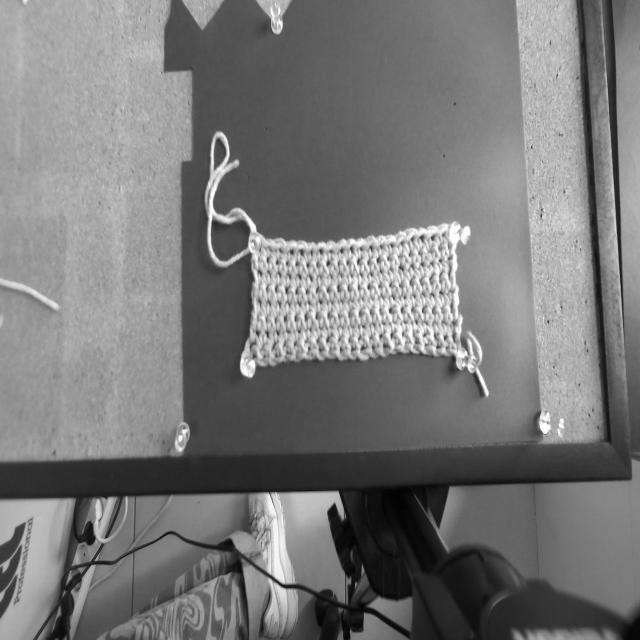ch: (425, 344, 444, 357), (414, 345, 433, 356), (351, 352, 370, 360), (362, 350, 380, 358), (405, 345, 421, 354), (256, 357, 271, 366), (311, 350, 324, 360), (437, 347, 453, 355), (320, 352, 337, 359), (302, 353, 318, 360), (342, 352, 356, 360), (283, 353, 294, 363), (395, 347, 410, 354), (292, 354, 306, 361), (375, 350, 390, 356), (383, 349, 398, 355), (272, 357, 283, 365), (336, 353, 347, 361)
sc: (402, 229, 418, 255), (422, 227, 438, 251), (412, 227, 427, 252), (271, 238, 286, 261), (294, 240, 308, 264), (438, 267, 451, 292), (363, 235, 375, 262), (434, 223, 448, 246), (332, 240, 346, 263), (381, 324, 394, 348), (394, 232, 407, 256), (372, 237, 386, 259), (283, 240, 297, 262), (391, 300, 404, 323), (353, 238, 366, 261), (344, 239, 357, 262), (277, 326, 291, 347), (391, 324, 404, 346), (410, 272, 423, 294), (380, 300, 392, 323), (402, 300, 414, 323), (328, 279, 340, 302), (256, 307, 267, 332), (307, 305, 318, 330), (318, 304, 329, 329), (349, 302, 360, 327), (262, 237, 275, 258), (361, 302, 372, 326), (369, 277, 381, 299), (388, 248, 400, 270), (323, 241, 335, 263), (304, 242, 316, 264), (313, 243, 326, 263), (442, 300, 453, 323), (358, 251, 369, 274), (439, 237, 450, 260), (400, 276, 412, 297), (267, 308, 277, 333), (296, 306, 306, 331), (371, 301, 382, 323), (276, 280, 287, 302), (359, 277, 370, 299), (379, 249, 390, 271), (430, 270, 441, 292), (276, 307, 286, 331), (286, 307, 296, 331), (267, 278, 277, 302), (339, 277, 349, 301), (349, 278, 359, 302), (380, 276, 392, 296), (317, 255, 329, 275), (419, 243, 431, 263), (360, 329, 371, 350), (390, 275, 401, 296), (369, 252, 380, 273), (329, 305, 339, 328), (340, 305, 350, 328), (287, 281, 297, 304), (298, 280, 308, 303), (349, 252, 359, 275), (386, 235, 396, 258), (412, 302, 424, 321), (420, 275, 432, 294), (424, 326, 435, 346), (446, 330, 457, 350), (308, 282, 319, 302), (329, 253, 339, 275), (410, 246, 421, 266), (339, 254, 349, 275), (403, 325, 414, 344), (423, 302, 434, 321), (295, 338, 308, 354), (261, 295, 270, 318), (318, 283, 330, 300), (415, 326, 425, 346), (432, 301, 442, 321), (434, 289, 444, 309), (394, 263, 404, 283), (350, 333, 361, 351), (372, 331, 383, 349), (298, 257, 309, 275), (272, 342, 286, 356), (259, 276, 267, 300), (268, 326, 278, 345), (425, 290, 435, 309), (403, 263, 413, 282), (383, 265, 393, 284), (430, 241, 440, 260), (264, 341, 275, 358), (363, 294, 374, 311), (382, 292, 393, 309), (436, 330, 446, 348), (310, 295, 320, 313), (280, 296, 289, 316), (271, 267, 280, 287), (309, 256, 318, 276), (399, 252, 411, 267), (290, 325, 299, 344), (418, 317, 427, 336), (290, 297, 299, 316), (353, 268, 362, 287), (342, 268, 351, 287), (302, 270, 311, 289), (343, 321, 353, 338), (416, 291, 426, 308), (405, 292, 415, 309), (414, 262, 424, 279), (329, 337, 341, 351), (250, 318, 257, 342), (271, 296, 279, 317), (281, 268, 289, 289), (322, 271, 331, 289), (311, 324, 321, 340), (259, 326, 267, 346), (333, 296, 343, 312), (394, 292, 404, 308), (373, 268, 383, 284), (288, 259, 298, 275), (424, 257, 432, 277), (443, 290, 452, 307), (333, 269, 342, 286), (434, 257, 443, 274), (292, 270, 300, 289), (319, 337, 329, 352), (340, 335, 350, 350), (342, 299, 352, 314), (396, 318, 405, 334), (376, 318, 384, 336), (366, 319, 374, 337), (334, 322, 342, 340), (322, 322, 331, 338), (301, 325, 310, 341), (362, 268, 371, 284), (313, 270, 321, 288), (354, 297, 364, 311), (263, 267, 270, 287), (278, 259, 288, 273), (386, 316, 394, 333), (354, 321, 362, 338), (301, 297, 309, 314), (323, 296, 331, 313), (269, 257, 278, 272), (285, 342, 295, 355), (408, 317, 416, 333), (252, 255, 260, 271), (447, 318, 454, 335), (309, 338, 318, 350), (252, 282, 258, 299), (441, 320, 446, 336), (434, 321, 440, 334)
